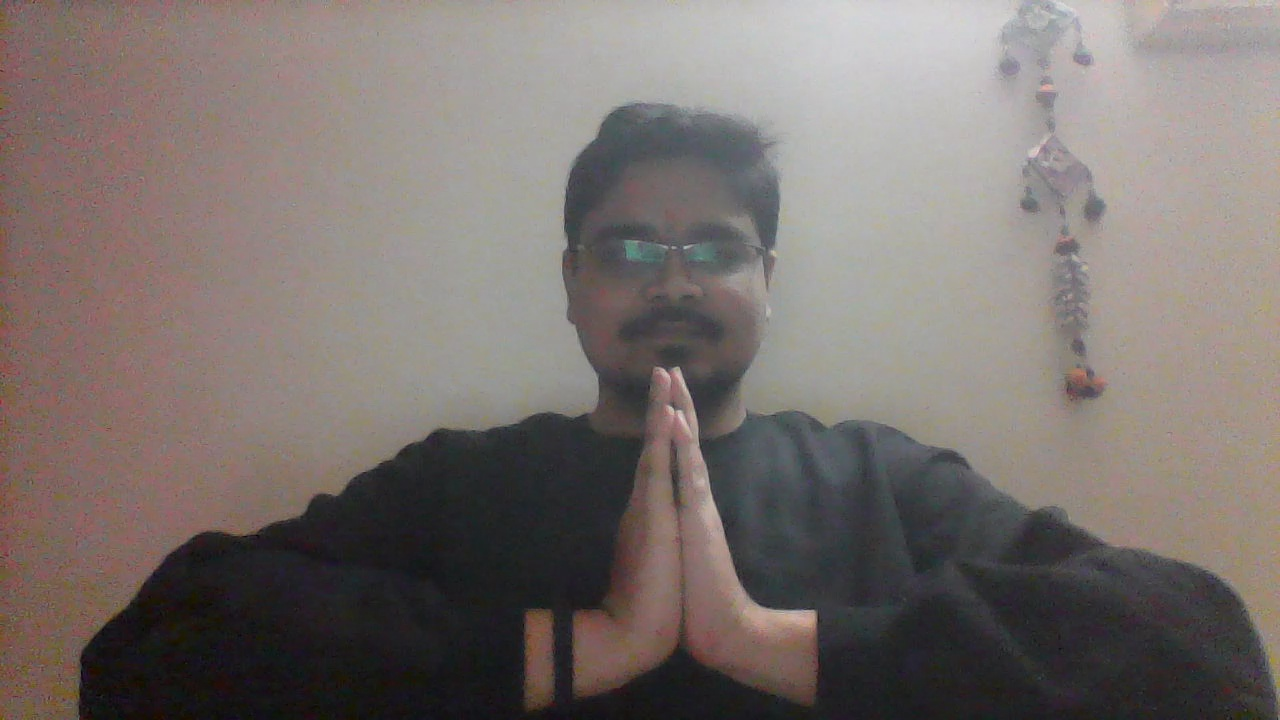Namaste: (607, 366, 752, 684)
